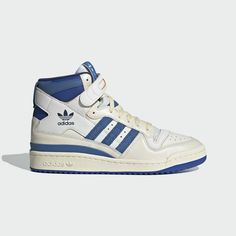adidas Originale: (55, 106, 78, 129)
